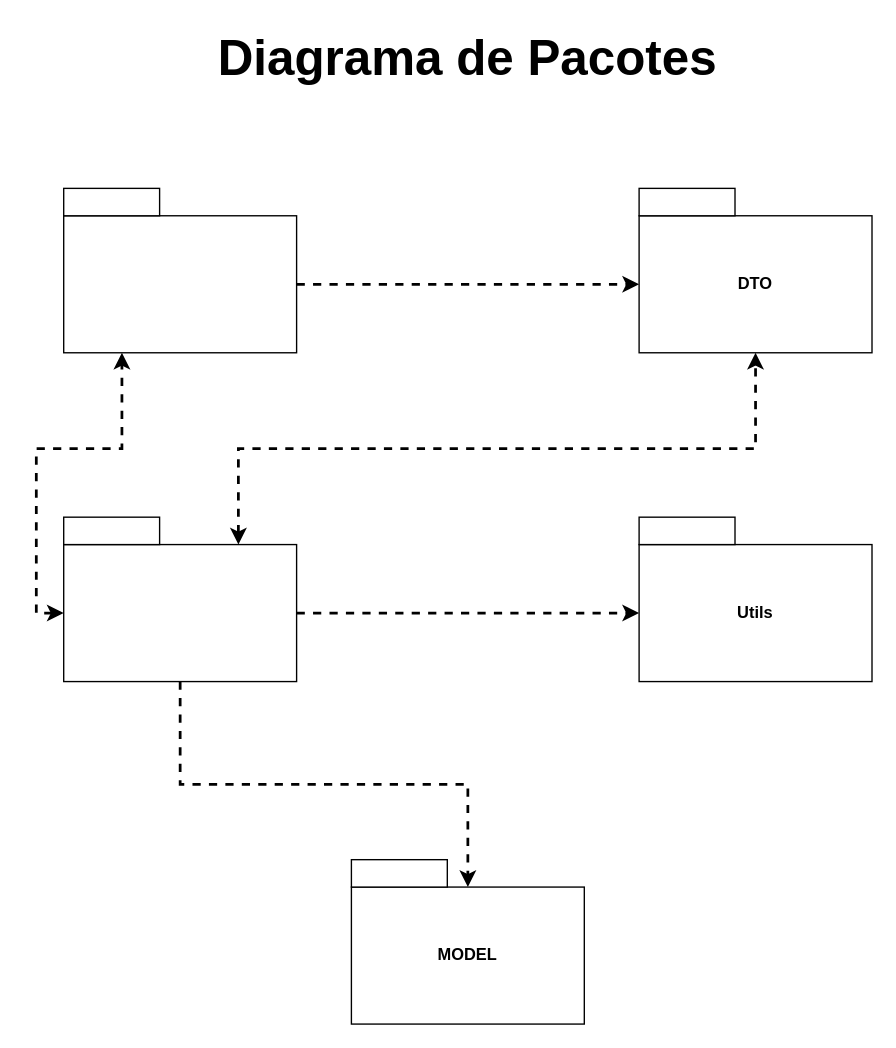
The diagram is 896 pixels wide and 1048 high, and some of its shapes have lost their labels. The box of each missing label's shape, as (x1, y1, x2, y2) in pixels:
CONTROLLER: (62, 214, 297, 353)
DAO: (62, 543, 297, 682)
